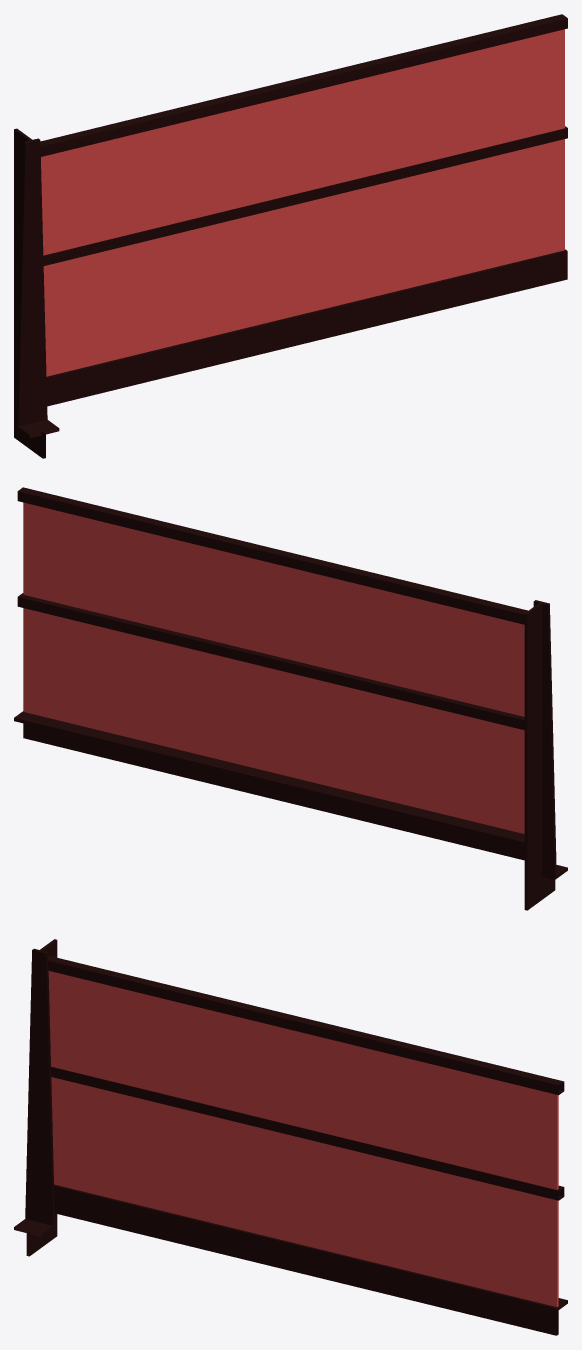
Rendered from SM_H_Building_Tide_Jail_Railing_01f_ATLAS.fbx.
3 renders of one model, top to bottom at view 1: azimuth 30°, elevation 25°; view 2: azimuth 150°, elevation 25°; view 3: azimuth 330°, elevation 25°, orthographic. The views are drawn at different scales.
Visible parts, largest first — view 1: SM_H_Building_Tide_Jail_Railing_01f_ATLAS; view 2: SM_H_Building_Tide_Jail_Railing_01f_ATLAS; view 3: SM_H_Building_Tide_Jail_Railing_01f_ATLAS.
Boxes of the visible parts, x1,y1,x2,y2 form: SM_H_Building_Tide_Jail_Railing_01f_ATLAS: [14, 14, 567, 458]; SM_H_Building_Tide_Jail_Railing_01f_ATLAS: [14, 487, 567, 910]; SM_H_Building_Tide_Jail_Railing_01f_ATLAS: [14, 939, 567, 1335].
Size of the model in its own units: 280 by 25.51 by 149.
